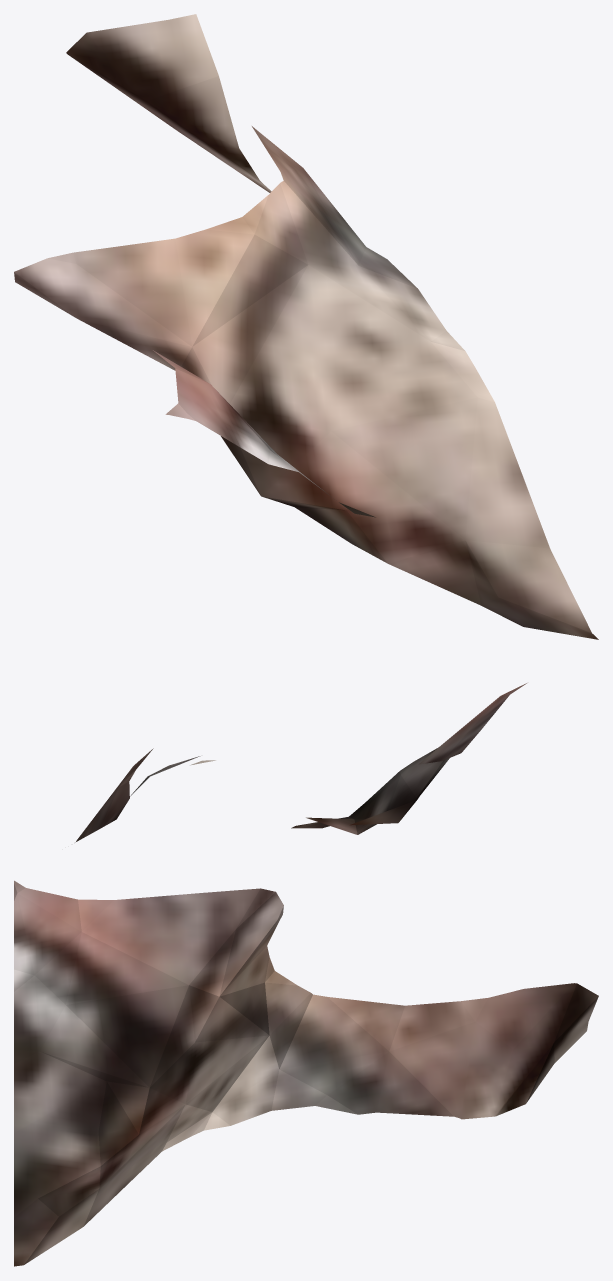
3 views of the same model, one above another, from view 1: azimuth 30°, elevation 25°; view 2: azimuth 150°, elevation 25°; view 3: azimuth 270°, elevation 25° (orthographic). The views are drawn at different scales.
Bounding box in the file's own units: 0.1901 × 0.1387 × 0.3122.
1 material, 1 textured.
